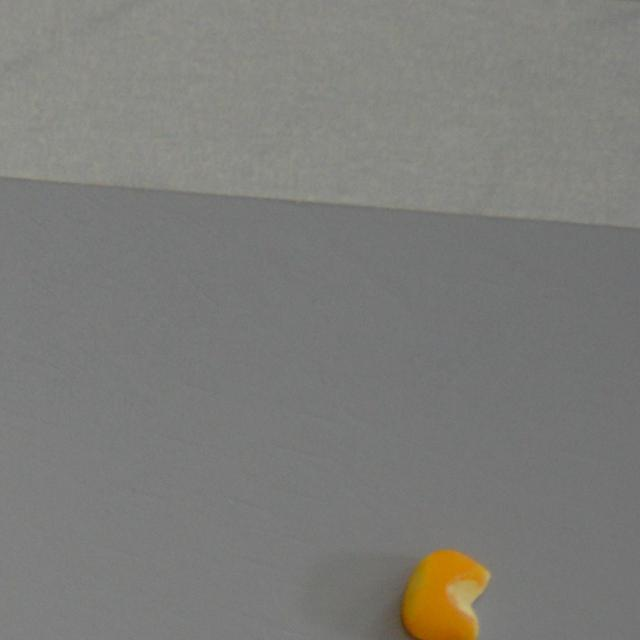no_canjicado: (400, 548, 490, 640)
